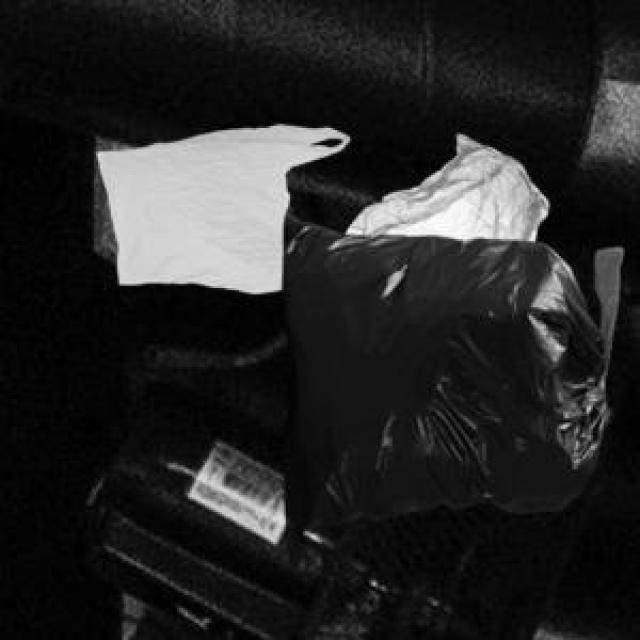miscellaneous trash: (277, 205, 619, 563)
